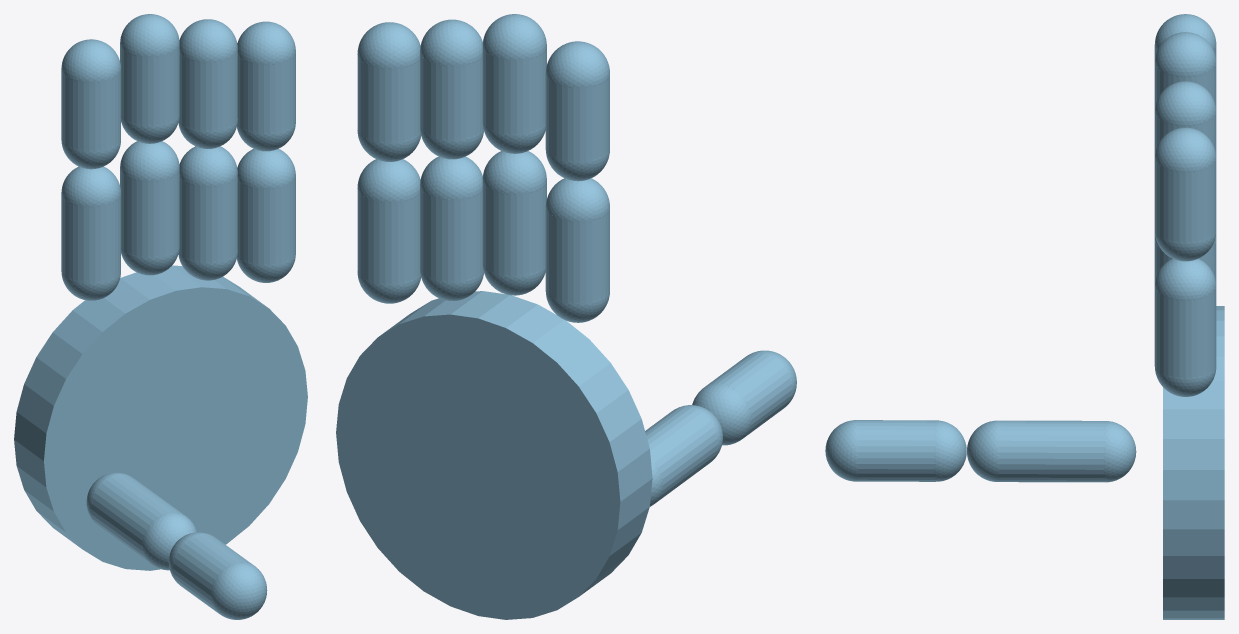
Rendered from gaia_hand_left_canonical.glb.
3 views of the same model, side by side, from view 1: azimuth 30°, elevation 25°; view 2: azimuth 150°, elevation 25°; view 3: azimuth 270°, elevation 25° (orthographic). The views are drawn at different scales.
Visible parts, largest first — view 1: world; view 2: world; view 3: world.
Boxes of the visible parts, x1,y1,x2,y2 form: world: [14, 14, 307, 619]; world: [336, 14, 796, 619]; world: [825, 14, 1224, 619].
Bounding box in the file's own units: 0.1 × 0.1976 × 0.127.
